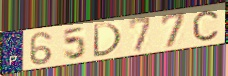5: (61, 25, 88, 61)
6: (29, 30, 55, 67)
7: (160, 10, 187, 49), (128, 14, 153, 54)
C: (191, 9, 220, 42)
D: (91, 22, 123, 59)
